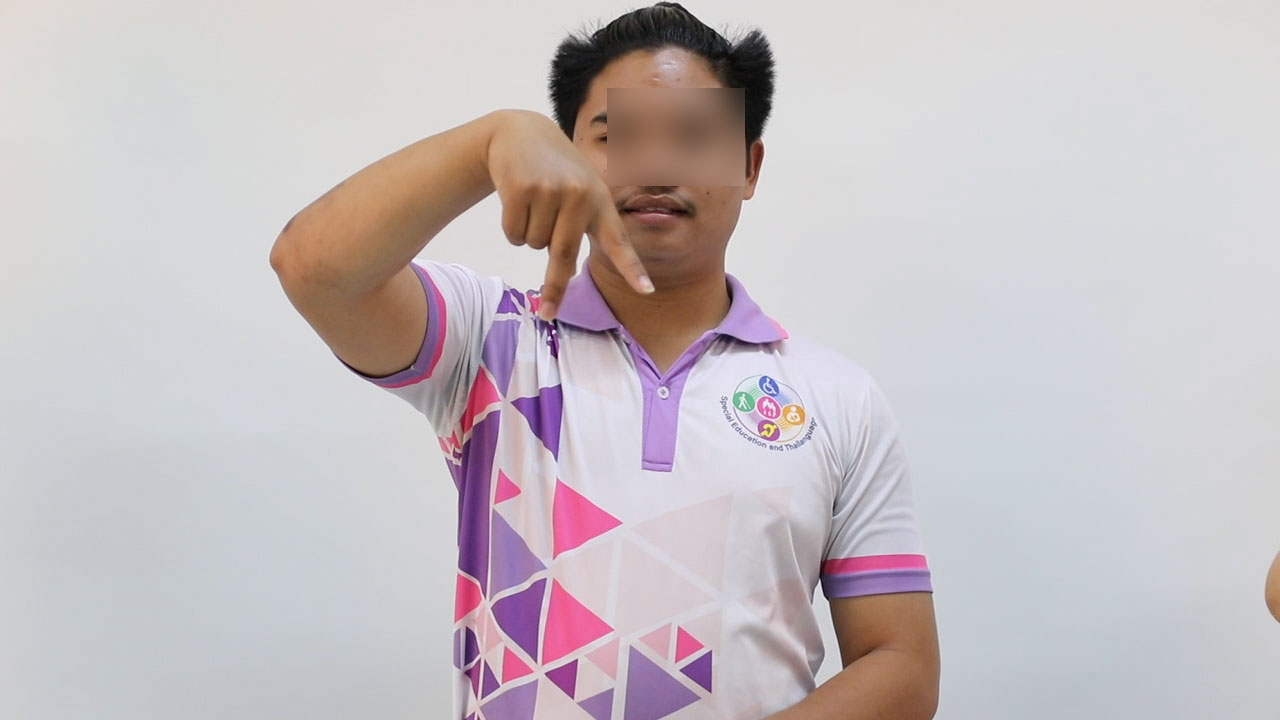por: (469, 97, 670, 326)
